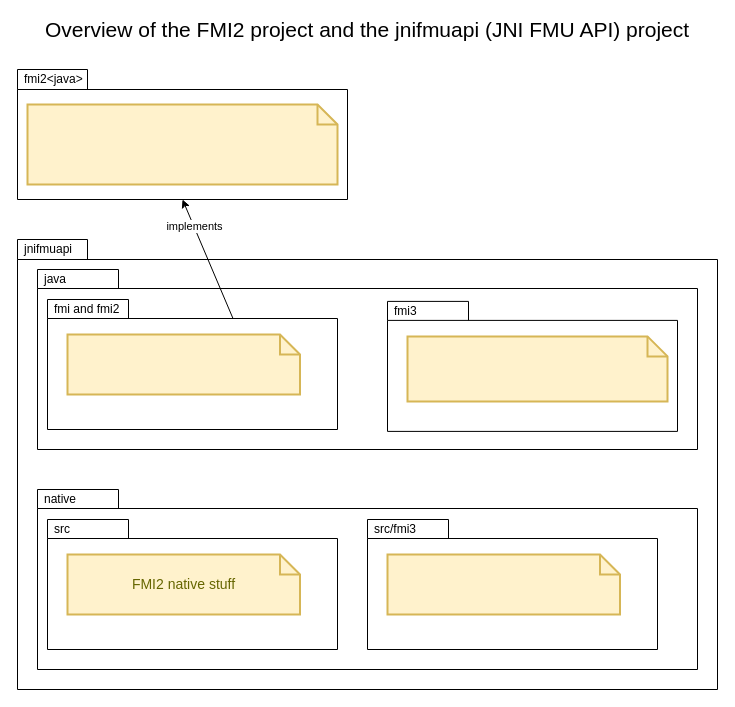
The diagram is 735 pixels wide and 707 high, and some of its shapes have lost their labels. The centre of each missing label's shape, as x and y in pixels:
"FMI3 native stuff" belongs at (x=503, y=584).
"Implements fmi2 interfaces" belongs at (x=183, y=364).
"Implements FMI3 java part including interfaces" belongs at (x=537, y=368).
"Interfaces for FMI2 Java part" belongs at (x=182, y=144).
